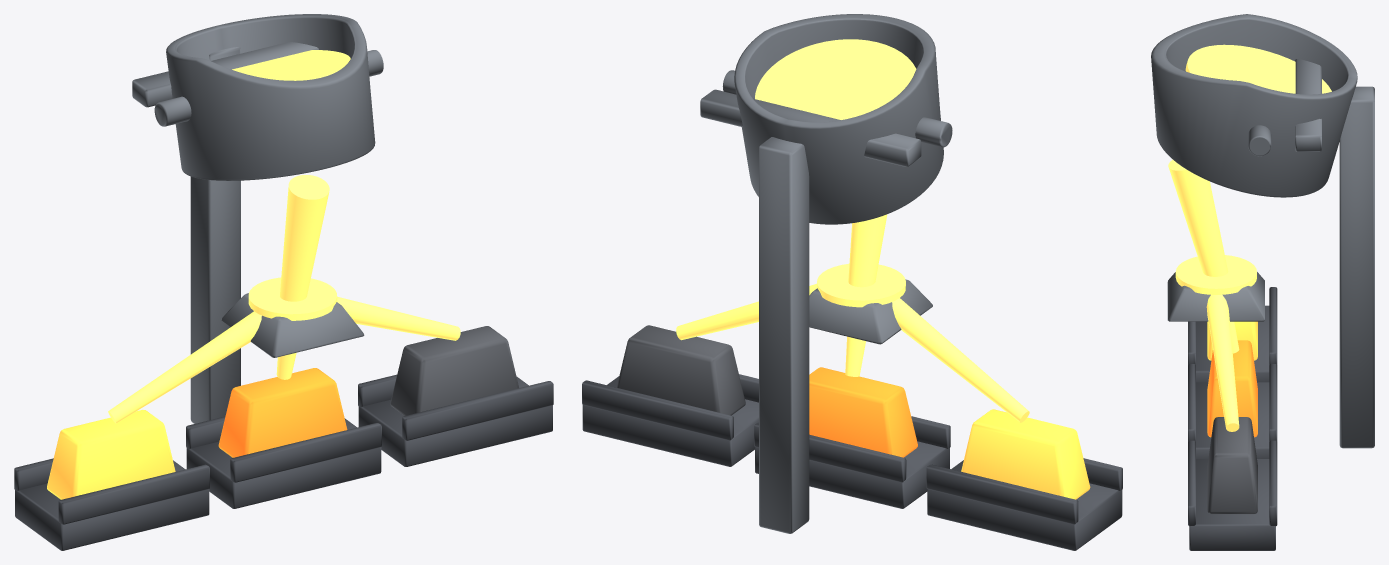
Rendered from forge-crucible.glb.
3 renders of one model, left to right at view 1: azimuth 30°, elevation 25°; view 2: azimuth 150°, elevation 25°; view 3: azimuth 270°, elevation 25°, orthographic. The views are drawn at different scales.
Parts seen in each view (by area): view 1: crucible, rail_1, column, rail_2, rail_3, ingot_2, ingot_1, ingot_3, pour_trunk, pour_splitter, pour_runner_1, pour_pool (+4 smaller); view 2: crucible, column, rail_1, rail_3, crucible_melt, ingot_1, ingot_3, rail_2, ingot_2, pour_splitter, column_arm, pour_runner_1 (+5 smaller); view 3: crucible, column, rail_3, ingot_3, crucible_melt, pour_trunk, rail_2, pour_splitter, rail_1, pour_runner_3, ingot_2, pour_pool (+3 smaller).
Part boxes in pixels (<box>): crucible: <box>166,14,375,180</box>; rail_1: <box>14,458,209,550</box>; column: <box>190,47,240,423</box>; rail_2: <box>186,416,381,508</box>; rail_3: <box>358,374,553,466</box>; ingot_2: <box>218,368,347,457</box>; ingot_1: <box>47,409,175,499</box>; ingot_3: <box>390,326,518,415</box>; pour_trunk: <box>280,175,329,301</box>; pour_splitter: <box>221,293,364,357</box>; pour_runner_1: <box>108,311,261,423</box>; pour_pool: <box>248,277,337,320</box>; crucible: <box>734,14,943,224</box>; column: <box>759,137,809,533</box>; rail_1: <box>926,458,1122,550</box>; rail_3: <box>582,374,758,466</box>; crucible_melt: <box>755,39,916,119</box>; ingot_1: <box>961,409,1090,499</box>; ingot_3: <box>616,325,745,415</box>; rail_2: <box>754,416,950,508</box>; ingot_2: <box>809,367,917,457</box>; pour_splitter: <box>809,279,932,344</box>; column_arm: <box>700,89,921,166</box>; pour_runner_1: <box>892,298,1029,422</box>; crucible: <box>1151,14,1357,197</box>; column: <box>1339,86,1374,448</box>; rail_3: <box>1188,440,1277,550</box>; ingot_3: <box>1207,417,1257,514</box>; crucible_melt: <box>1185,44,1331,93</box>; pour_trunk: <box>1168,159,1228,276</box>; rail_2: <box>1188,364,1277,458</box>; pour_splitter: <box>1167,272,1264,321</box>; rail_1: <box>1188,287,1277,382</box>; pour_runner_3: <box>1206,294,1239,431</box>; ingot_2: <box>1207,340,1257,437</box>; pour_pool: <box>1175,255,1256,294</box>.
Bounding box in the file's own units: 3.84 × 3.19 × 1.65.
